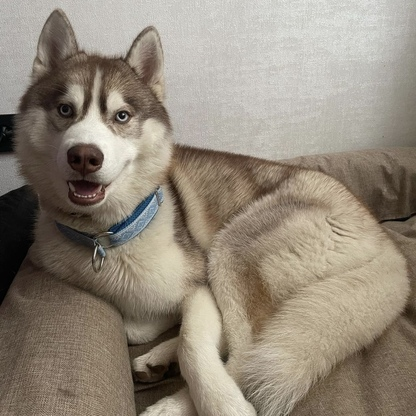husky: (9, 3, 414, 416)
